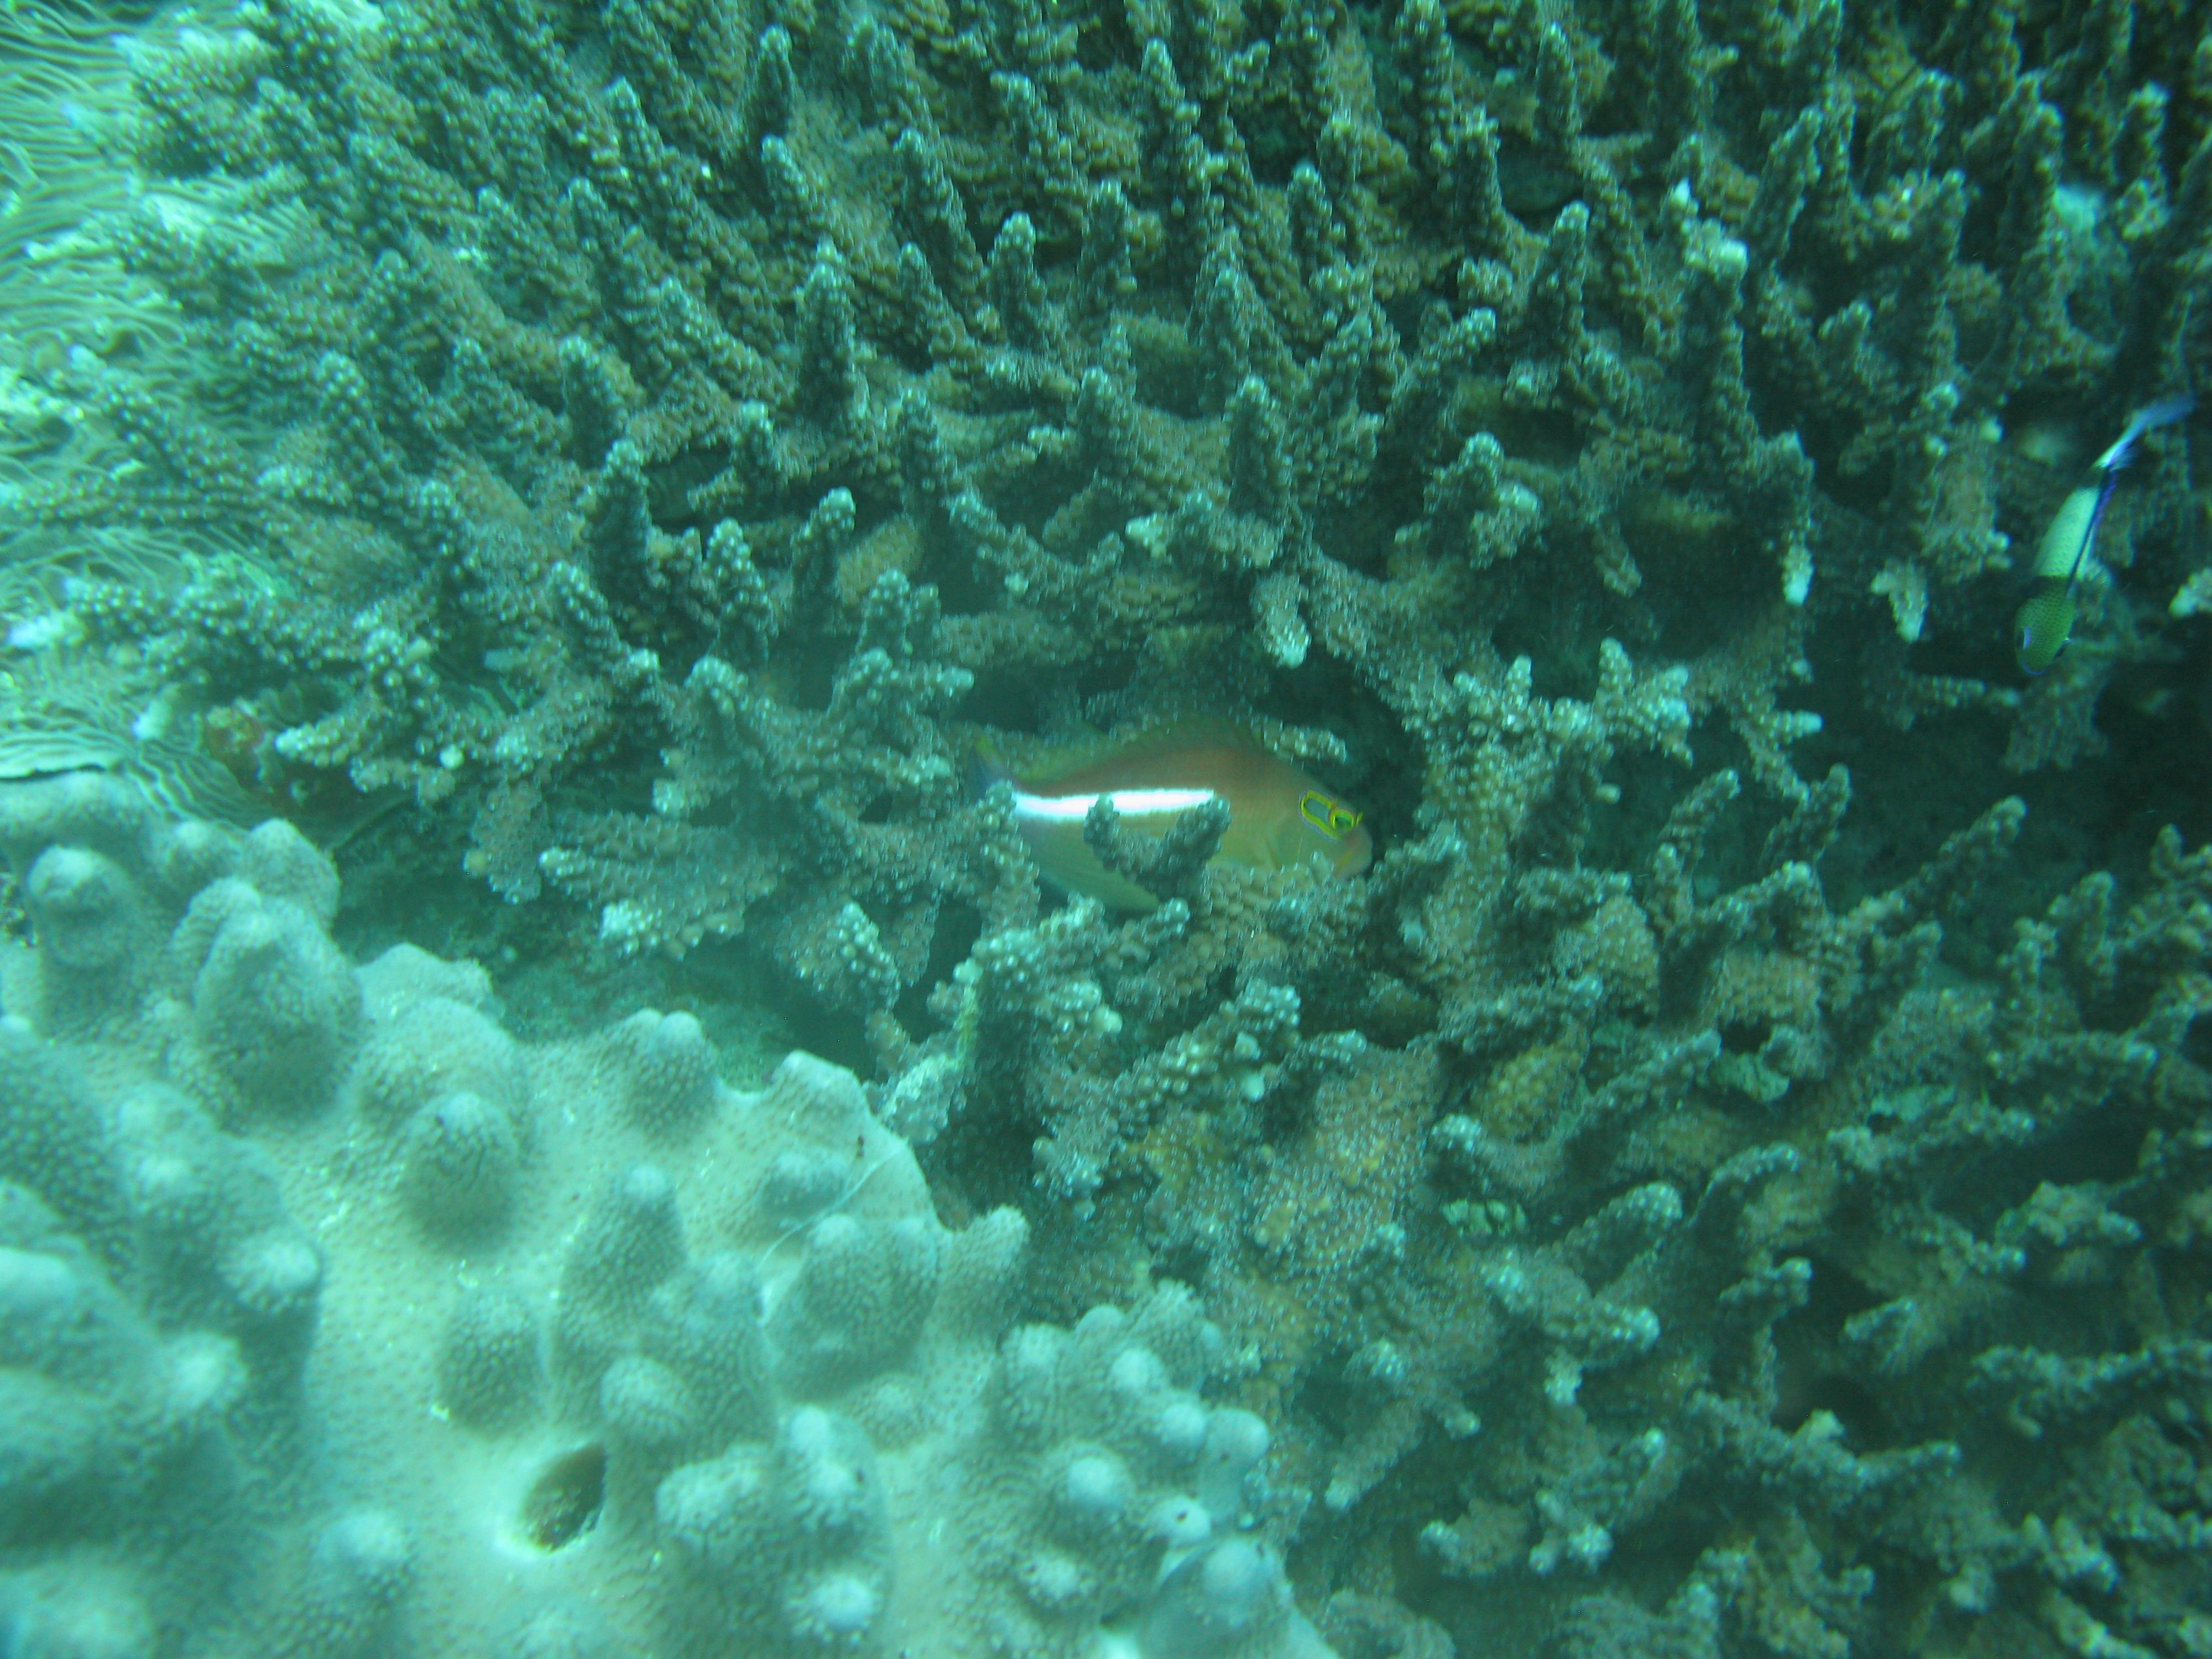Fish: (927, 714, 1397, 918)
